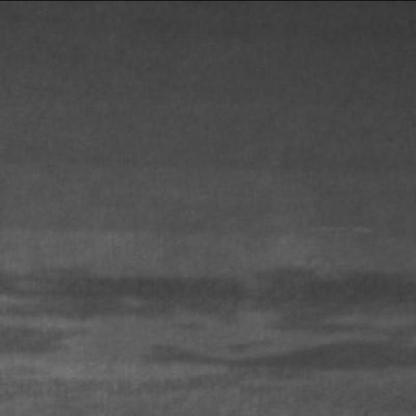inclusion: (6, 264, 416, 370)
